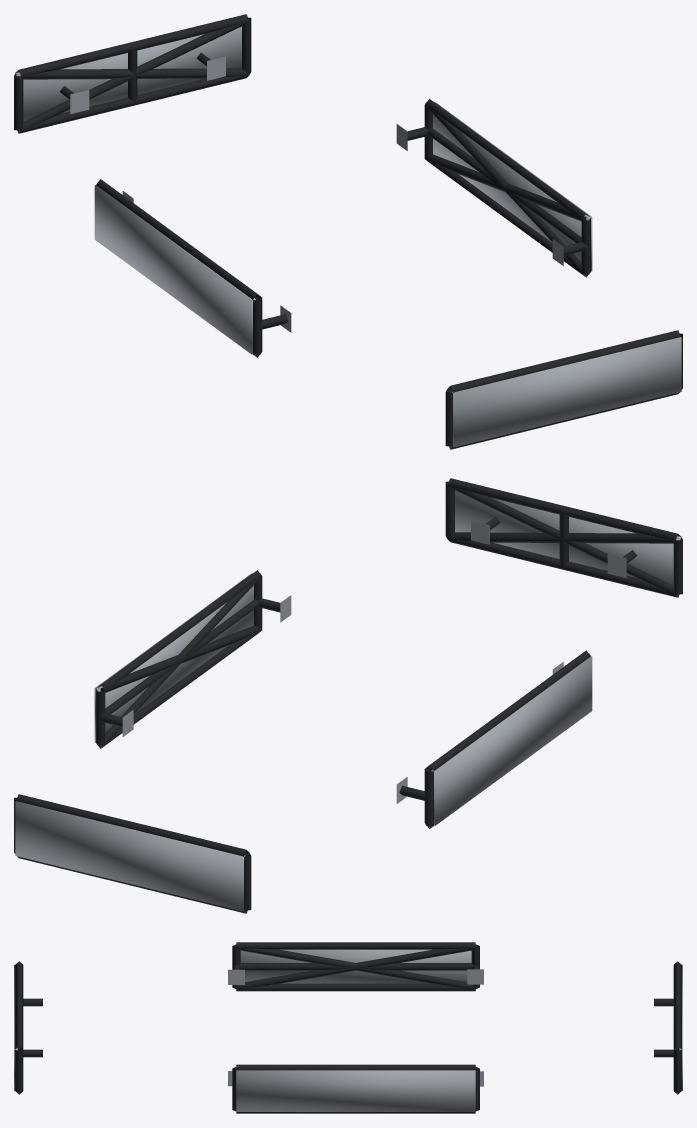
File: norrvik_corisco_protecao.glb
The picture shows the model from 3 angles, top to bottom: view 1: azimuth 30°, elevation 25°; view 2: azimuth 150°, elevation 25°; view 3: azimuth 270°, elevation 25°; orthographic projection. The views are drawn at different scales.
Visible parts, largest first — view 1: Protection_front_Level3_Details, Protection_left_Level3_Details, Protection_rear_Level1_Details, Protection_rear_Level3_Details, Protection_right_Level1_Details, Protection_rear_Level2_Details, Protection_right_Level2_Details, Protection_right_Level3_Details, Protection_front_Level1_Details, Protection_left_Level1_Details; view 2: Protection_rear_Level3_Details, Protection_left_Level3_Details, Protection_front_Level1_Details, Protection_front_Level3_Details, Protection_right_Level1_Details, Protection_front_Level2_Details, Protection_right_Level2_Details, Protection_right_Level3_Details, Protection_rear_Level1_Details, Protection_left_Level1_Details; view 3: Protection_right_Level3_Details, Protection_left_Level1_Details, Protection_left_Level2_Details, Protection_left_Level3_Details, Protection_right_Level1_Details, Protection_rear_Level1_Details, Protection_front_Level1_Details.
Part boxes in pixels (bbox=[...]): Protection_front_Level3_Details: bbox=[451, 337, 681, 447]; Protection_left_Level3_Details: bbox=[94, 185, 255, 354]; Protection_rear_Level1_Details: bbox=[14, 14, 251, 133]; Protection_rear_Level3_Details: bbox=[15, 26, 241, 121]; Protection_right_Level1_Details: bbox=[396, 99, 590, 277]; Protection_rear_Level2_Details: bbox=[16, 21, 248, 132]; Protection_right_Level2_Details: bbox=[425, 105, 589, 276]; Protection_right_Level3_Details: bbox=[433, 102, 592, 271]; Protection_front_Level1_Details: bbox=[445, 330, 682, 449]; Protection_left_Level1_Details: bbox=[96, 179, 291, 357]; Protection_rear_Level3_Details: bbox=[15, 801, 245, 911]; Protection_left_Level3_Details: bbox=[431, 656, 592, 825]; Protection_front_Level1_Details: bbox=[445, 478, 682, 597]; Protection_front_Level3_Details: bbox=[455, 490, 681, 585]; Protection_right_Level1_Details: bbox=[96, 570, 291, 748]; Protection_front_Level2_Details: bbox=[448, 485, 680, 596]; Protection_right_Level2_Details: bbox=[96, 577, 261, 748]; Protection_right_Level3_Details: bbox=[94, 573, 253, 742]; Protection_rear_Level1_Details: bbox=[14, 794, 251, 913]; Protection_left_Level1_Details: bbox=[396, 650, 590, 828]; Protection_right_Level3_Details: bbox=[236, 1070, 475, 1111]; Protection_left_Level1_Details: bbox=[228, 942, 483, 991]; Protection_left_Level2_Details: bbox=[236, 945, 476, 989]; Protection_left_Level3_Details: bbox=[240, 949, 471, 983]; Protection_right_Level1_Details: bbox=[228, 1064, 483, 1113]; Protection_rear_Level1_Details: bbox=[654, 961, 681, 1094]; Protection_front_Level1_Details: bbox=[15, 961, 42, 1094].
Size of the model in its own units: 1.97 by 0.354 by 4.39.
Materials: 1 (1 with a texture image).
